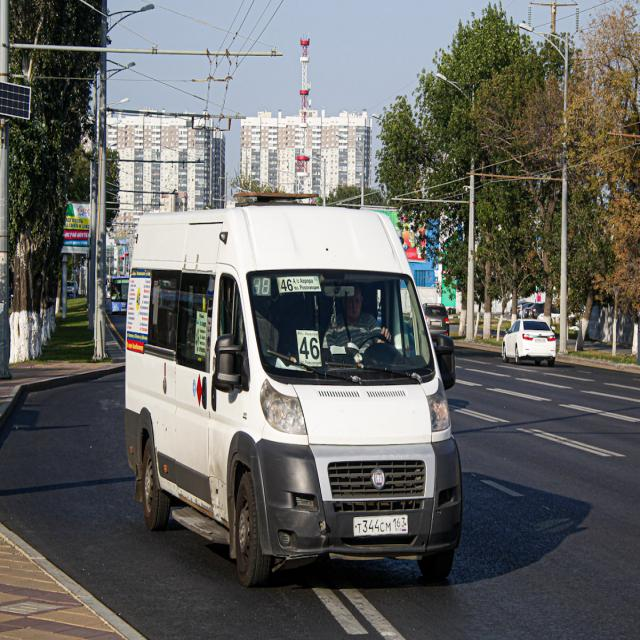number-of-bus: (300, 337, 323, 362), (281, 277, 295, 295)
